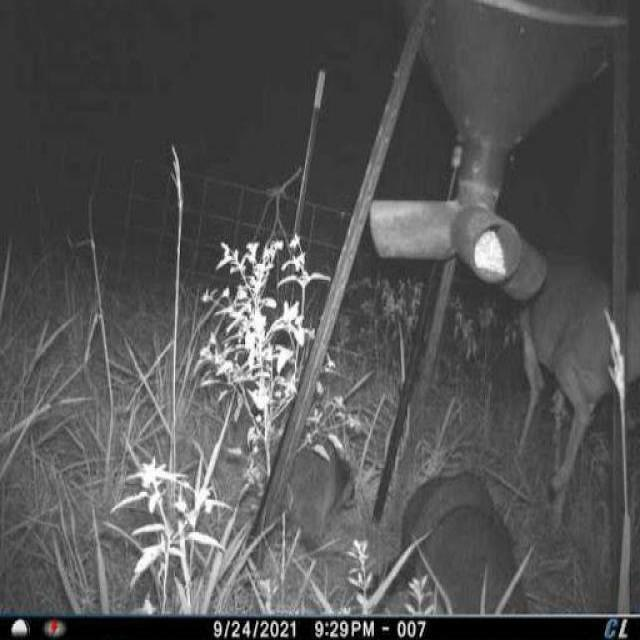deer: (512, 243, 640, 520)
